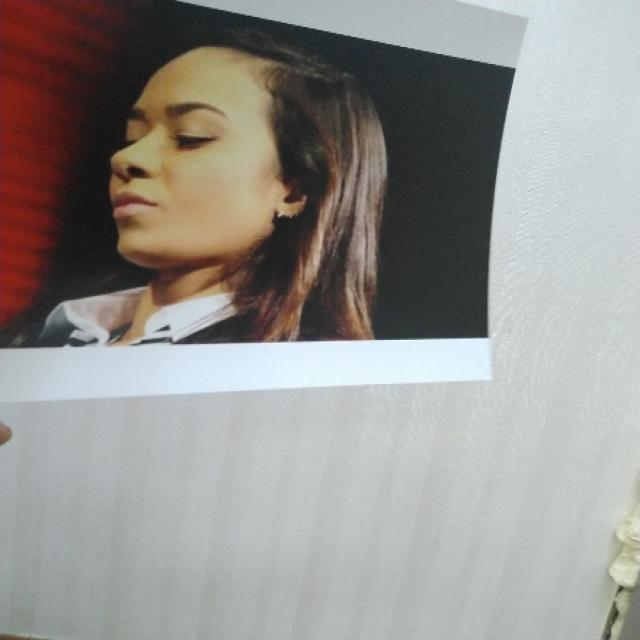photo: (1, 0, 530, 410)
